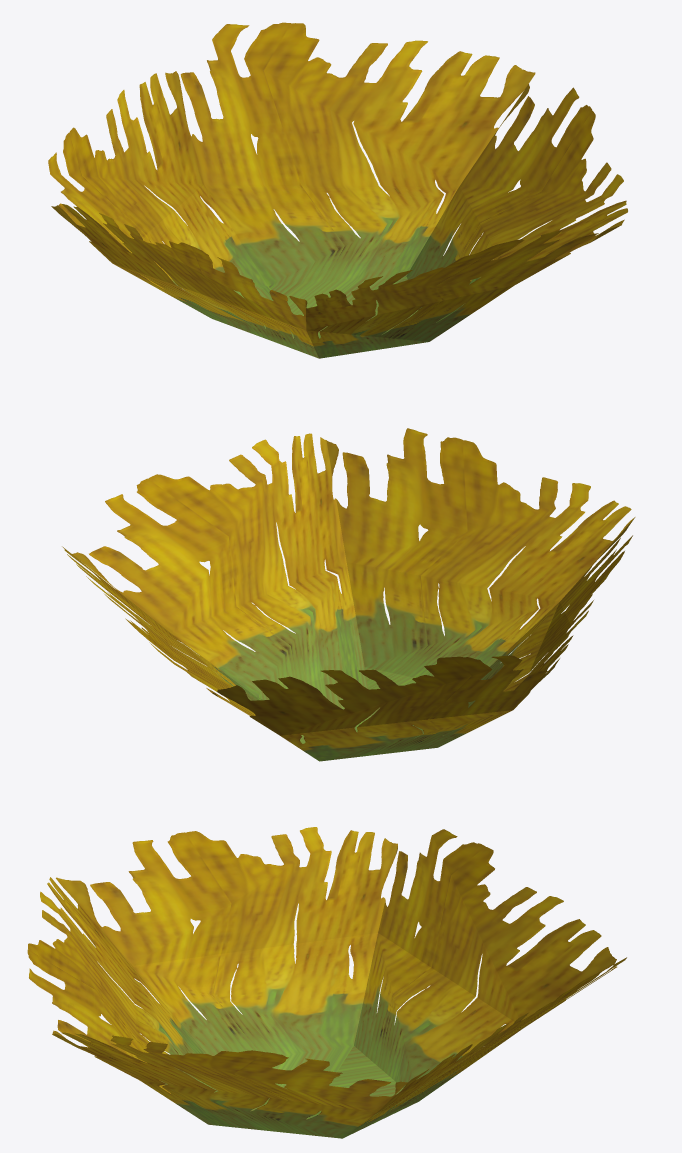
3 views of the same model, one above another, from view 1: azimuth 30°, elevation 25°; view 2: azimuth 150°, elevation 25°; view 3: azimuth 270°, elevation 25° (orthographic). The views are drawn at different scales.
Visible parts, largest first — view 1: BT_1_F_1_1; view 2: BT_1_F_1_1; view 3: BT_1_F_1_1.
Part boxes in pixels (x1,y1,x2,y2): BT_1_F_1_1: (48, 22, 627, 358); BT_1_F_1_1: (62, 428, 635, 761); BT_1_F_1_1: (27, 827, 626, 1138).
Size of the model in its own units: 7.79 by 2.69 by 7.71.
1 material, 1 textured.
